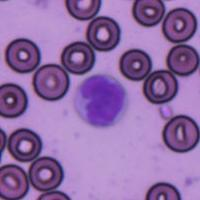M: (72, 74, 129, 128)
